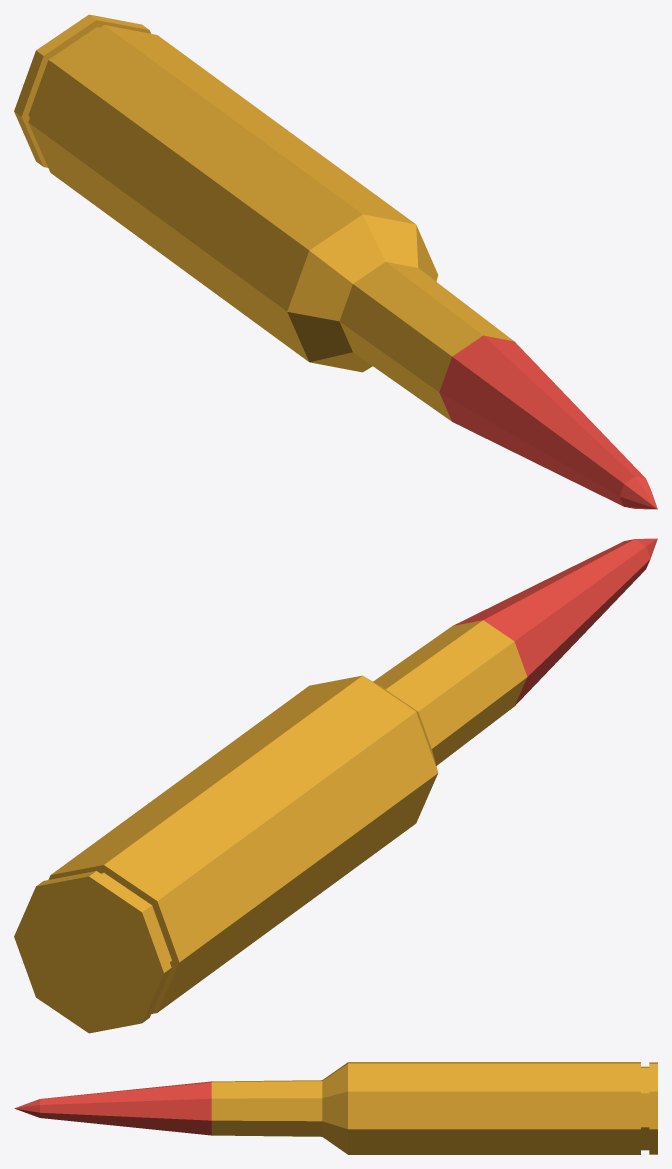
Rendered from AWM_Bullet.fbx.
The picture shows the model from 3 angles, top to bottom: view 1: azimuth 30°, elevation 25°; view 2: azimuth 150°, elevation 25°; view 3: azimuth 270°, elevation 25°; orthographic projection. The views are drawn at different scales.
Parts seen in each view (by area): view 1: AWM Bullet Mesh; view 2: AWM Bullet Mesh; view 3: AWM Bullet Mesh.
Boxes of the visible parts, x1=… form: AWM Bullet Mesh: x1=14, y1=14, x2=657, y2=509; AWM Bullet Mesh: x1=14, y1=538, x2=657, y2=1033; AWM Bullet Mesh: x1=14, y1=1062, x2=657, y2=1154.
Size of the model in its own units: 0.9442 by 0.9442 by 6.16.
